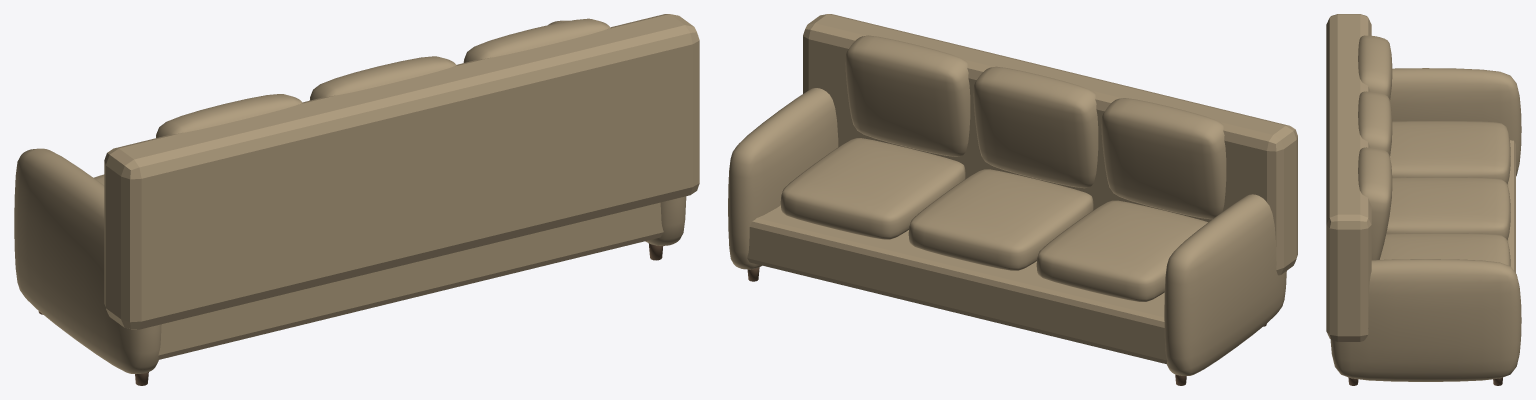
Rendered from sofa.glb.
3 views of the same model, side by side, from view 1: azimuth 30°, elevation 25°; view 2: azimuth 150°, elevation 25°; view 3: azimuth 270°, elevation 25° (orthographic). The views are drawn at different scales.
Visible parts, largest first — view 1: frame, base, arm, back.002, back.001, back, arm.001; view 2: base, frame, arm, back.002, back.001, back, seat.001, seat.002, seat, arm.001; view 3: arm.001, frame, arm, seat.001, seat, seat.002, back.002, back.001, back, base.
Boxes of the visible parts, x1,y1,x2,y2 form: frame: (104, 14, 699, 329); base: (158, 202, 663, 359); arm: (14, 148, 161, 373); back.002: (463, 18, 610, 62); back.001: (309, 56, 456, 100); back: (156, 94, 302, 137); arm.001: (548, 20, 686, 245); base: (747, 205, 1167, 364); frame: (803, 14, 1297, 275); arm: (1164, 194, 1286, 375); back.002: (845, 35, 970, 156); back.001: (973, 66, 1098, 188); back: (1101, 98, 1226, 219); seat.001: (908, 169, 1093, 270); seat.002: (780, 138, 965, 239); seat: (1036, 200, 1207, 301); arm.001: (728, 88, 838, 269); arm.001: (1330, 259, 1521, 381); frame: (1326, 14, 1371, 341); arm: (1390, 68, 1521, 176); seat.001: (1386, 177, 1510, 240); seat: (1390, 121, 1510, 184); seat.002: (1379, 233, 1510, 266); back.002: (1358, 147, 1392, 260); back.001: (1358, 91, 1392, 155); back: (1358, 35, 1392, 99); base: (1507, 140, 1515, 272).
Bounding box in the file's own units: 2.2 × 0.8847 × 0.8643.
